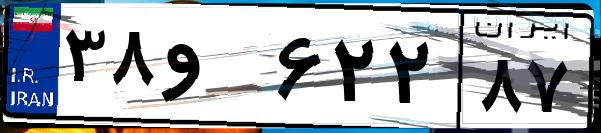2: (385, 28, 445, 110), (330, 28, 385, 110)
3: (57, 26, 110, 100)
6: (270, 28, 330, 110)
7: (525, 38, 570, 115)
8: (475, 38, 525, 113), (110, 28, 158, 98)
و: (158, 20, 270, 120)
